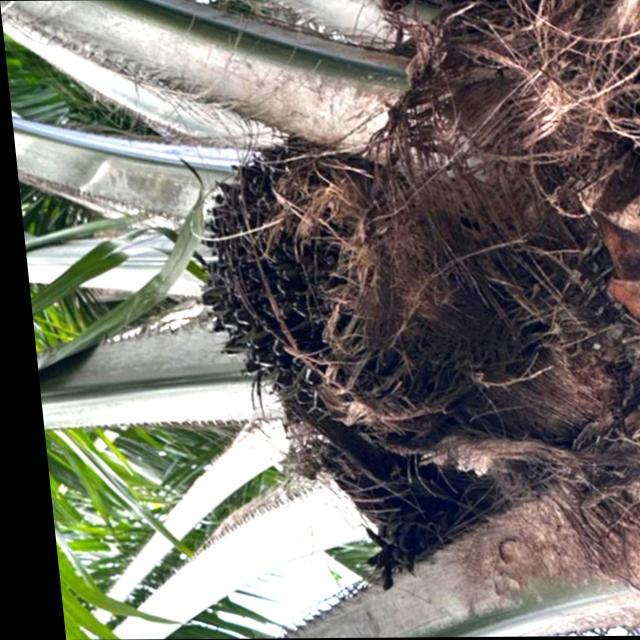almost: (159, 123, 492, 437)
